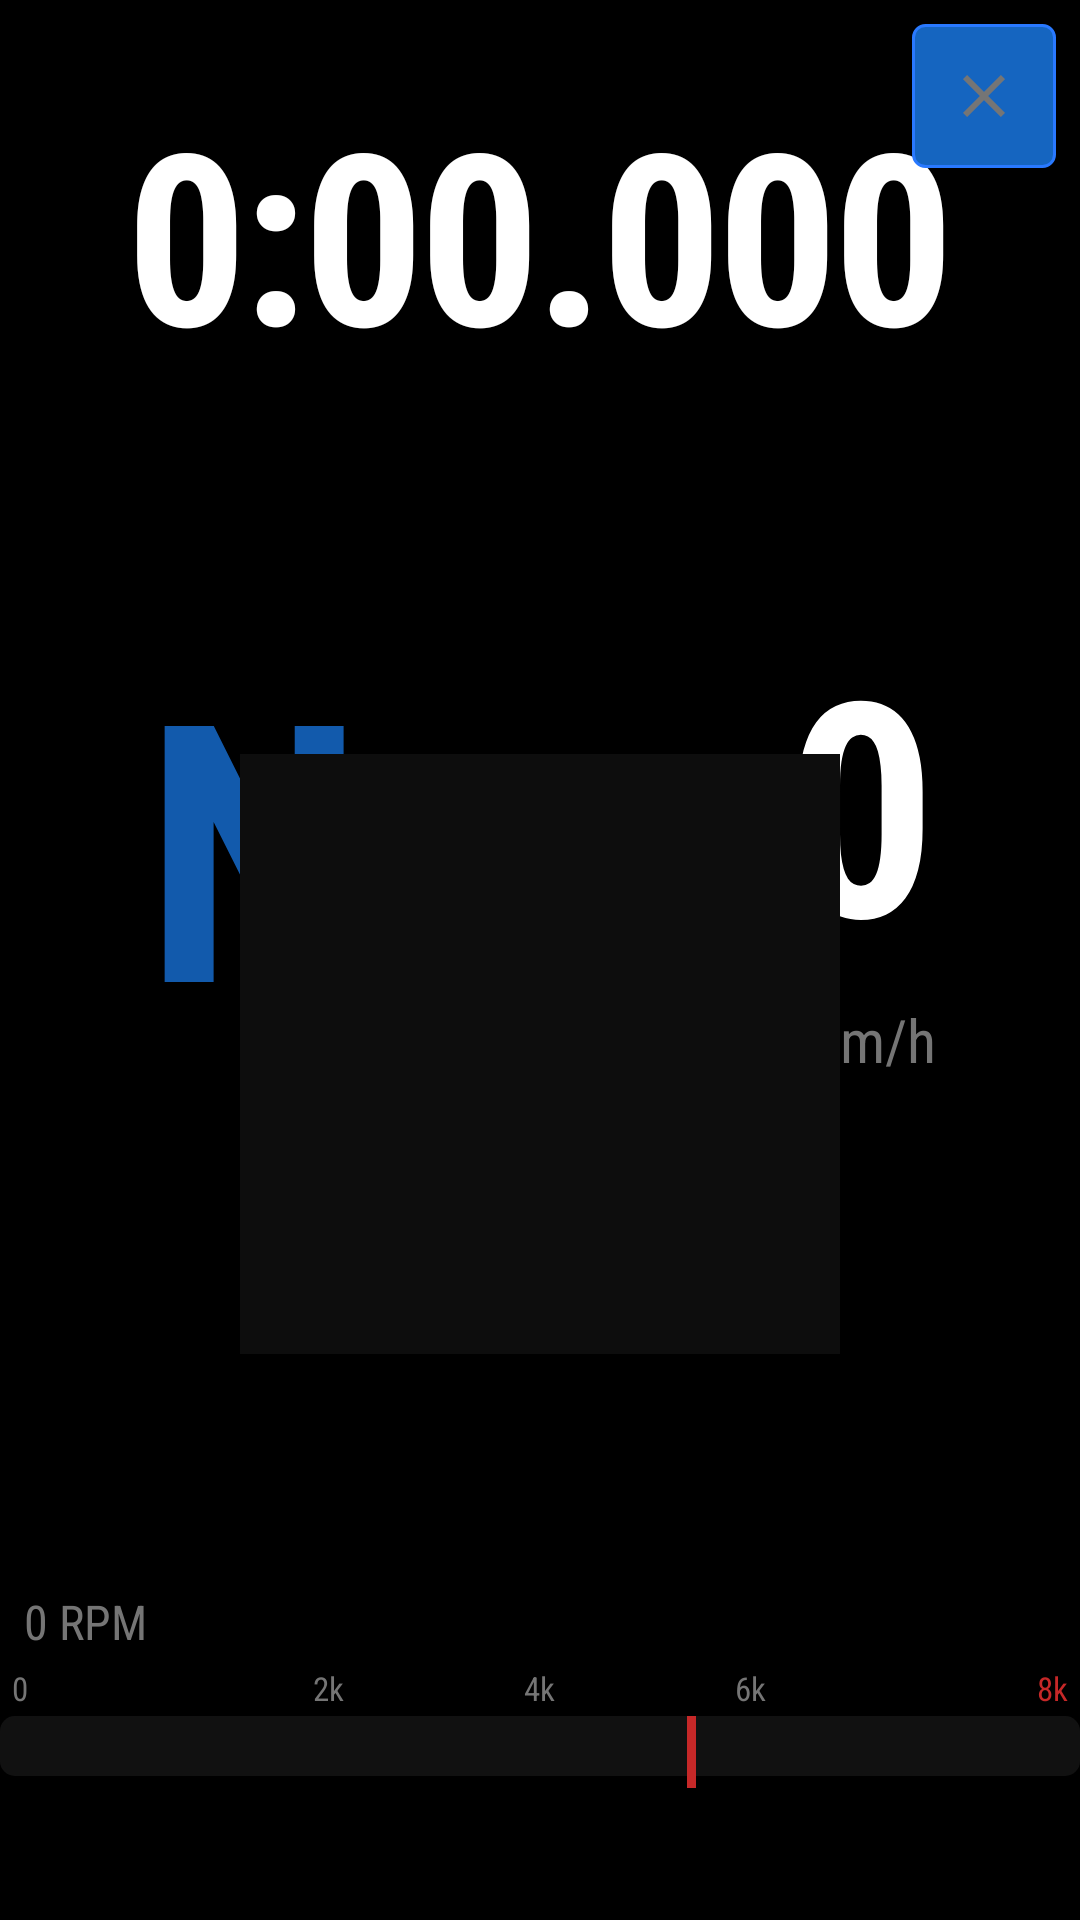

Icon click points for this 1080px x 1920px phone screenshot, format [x,y]:
Exit HUD: [984,96]
